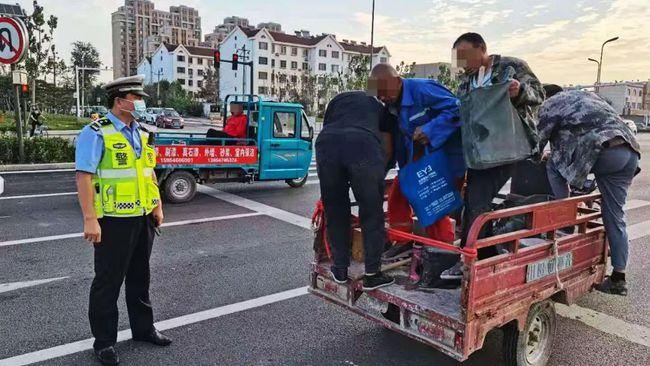overloading: (307, 34, 639, 366)
passenger: (538, 72, 639, 301), (373, 57, 458, 244), (453, 34, 534, 228), (314, 92, 390, 288)
